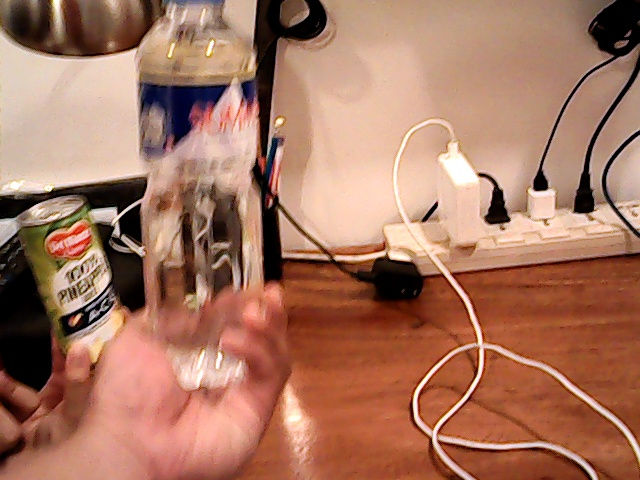Pine Juice: (4, 186, 129, 362)
Summit Water: (132, 1, 265, 359)
